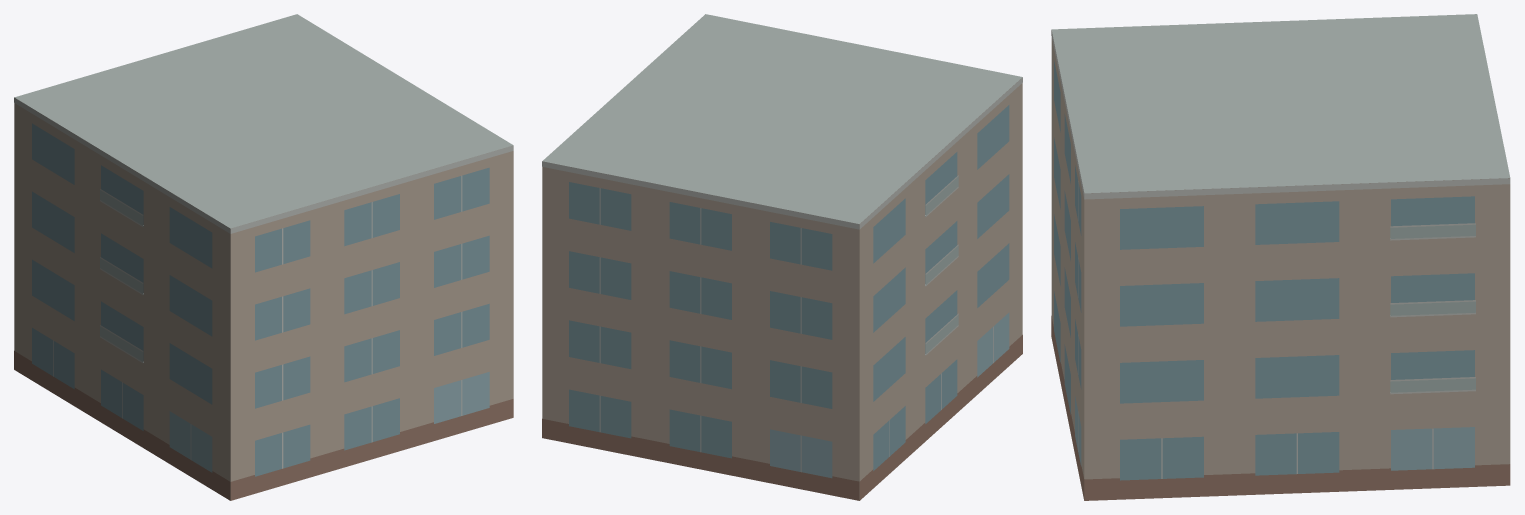
File: residential-07596c41-b662-4074-a1ac-95578b4ac6a2.glb
The picture shows the model from 3 angles, left to right: view 1: azimuth 30°, elevation 25°; view 2: azimuth 150°, elevation 25°; view 3: azimuth 270°, elevation 25°; orthographic projection. The views are drawn at different scales.
Parts seen in each view (by area): view 1: residential-07596c41-b662-4074-a1ac-95578b4ac6a2.tmp; view 2: residential-07596c41-b662-4074-a1ac-95578b4ac6a2.tmp; view 3: residential-07596c41-b662-4074-a1ac-95578b4ac6a2.tmp.
Part boxes in pixels (left/top/right/bottom): residential-07596c41-b662-4074-a1ac-95578b4ac6a2.tmp: left=14, top=14, right=513, bottom=500; residential-07596c41-b662-4074-a1ac-95578b4ac6a2.tmp: left=542, top=14, right=1022, bottom=500; residential-07596c41-b662-4074-a1ac-95578b4ac6a2.tmp: left=1051, top=14, right=1510, bottom=500.
Size of the model in its own units: 15.27 by 12.2 by 16.51.
